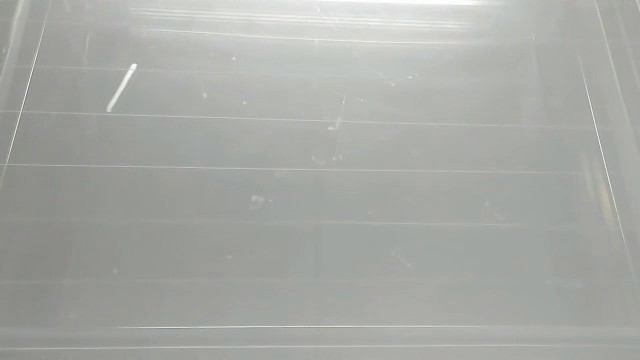alpha: (102, 60, 142, 116)
